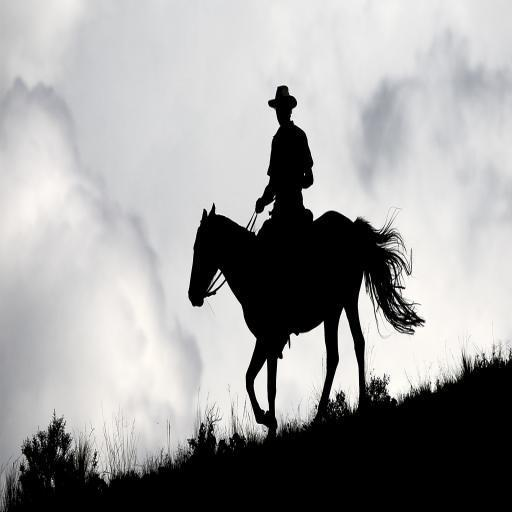horse: (186, 198, 426, 440)
